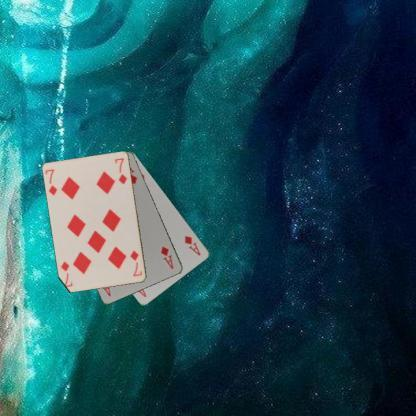7d: (128, 248, 144, 278), (43, 166, 58, 196)
Ad: (182, 233, 202, 258), (158, 244, 175, 271)
